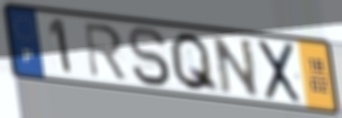1: (46, 18, 74, 78)
N: (210, 35, 262, 100)
Q: (167, 30, 222, 96)
R: (82, 21, 130, 83)
S: (126, 25, 173, 89)
X: (256, 38, 303, 106)
